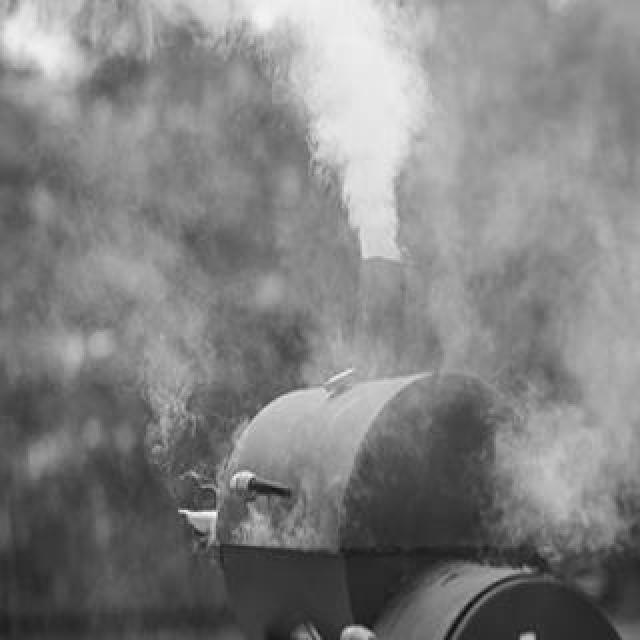Smoke: (34, 8, 434, 274), (130, 338, 286, 544)
